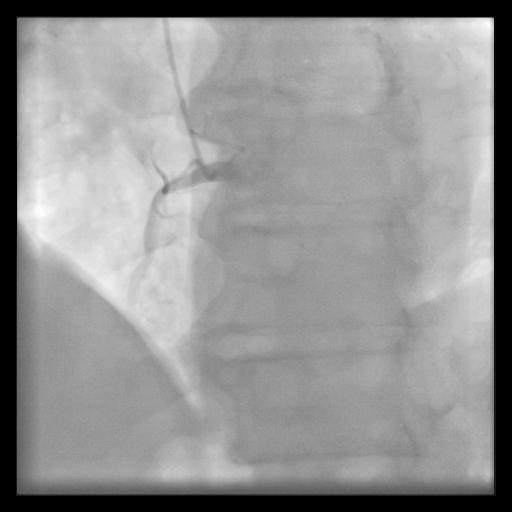Stenosis: (154, 178, 183, 197)
